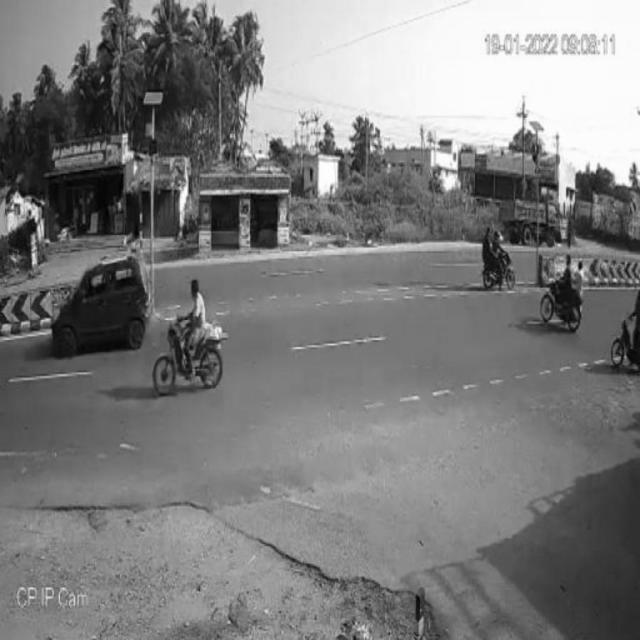vehicle: (51, 254, 154, 354), (153, 284, 225, 392), (539, 260, 585, 331), (606, 294, 640, 374), (481, 227, 516, 295)
